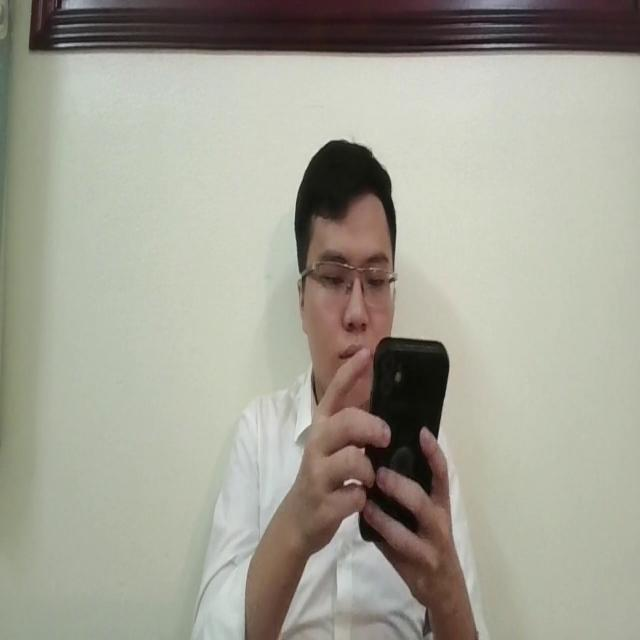phone: (356, 330, 449, 545)
student: (190, 130, 490, 640)
